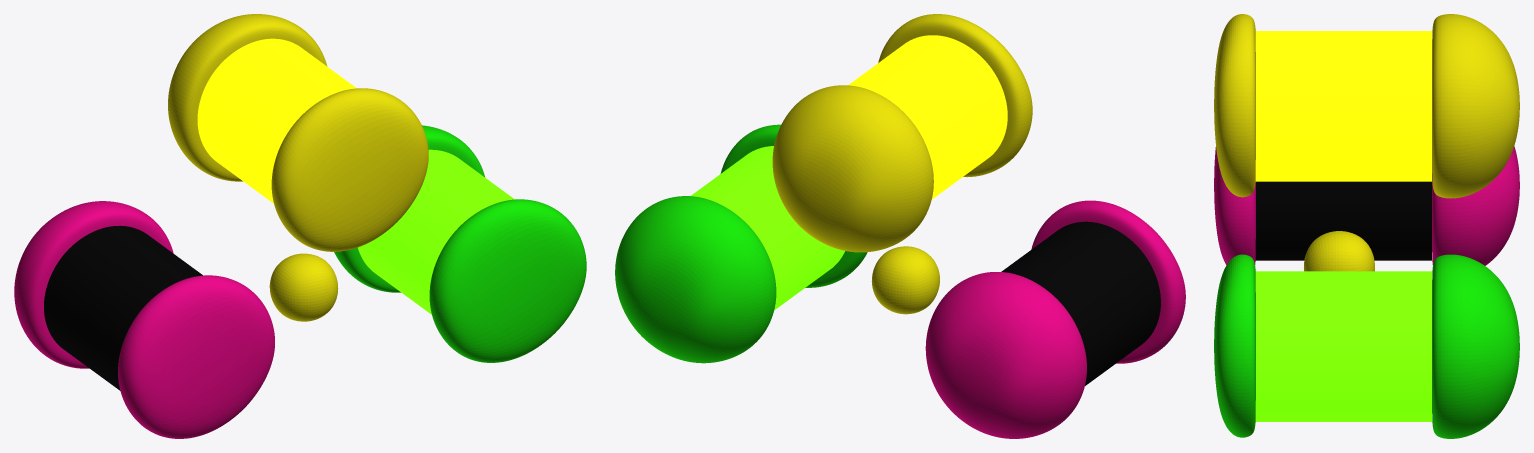
File: 2_2_Orbes_Ama_Ver.fbx
The picture shows the model from 3 angles, left to right: view 1: azimuth 30°, elevation 25°; view 2: azimuth 150°, elevation 25°; view 3: azimuth 270°, elevation 25°; orthographic projection. The views are drawn at different scales.
Visible parts, largest first — view 1: Cubo; view 2: Cubo; view 3: Cubo.
Part boxes in pixels (<box>): Cubo: <box>14,14,586,438</box>; Cubo: <box>615,14,1185,438</box>; Cubo: <box>1214,14,1519,438</box>.
Bounding box in the file's own units: 73.32 × 46.6 × 39.58.
